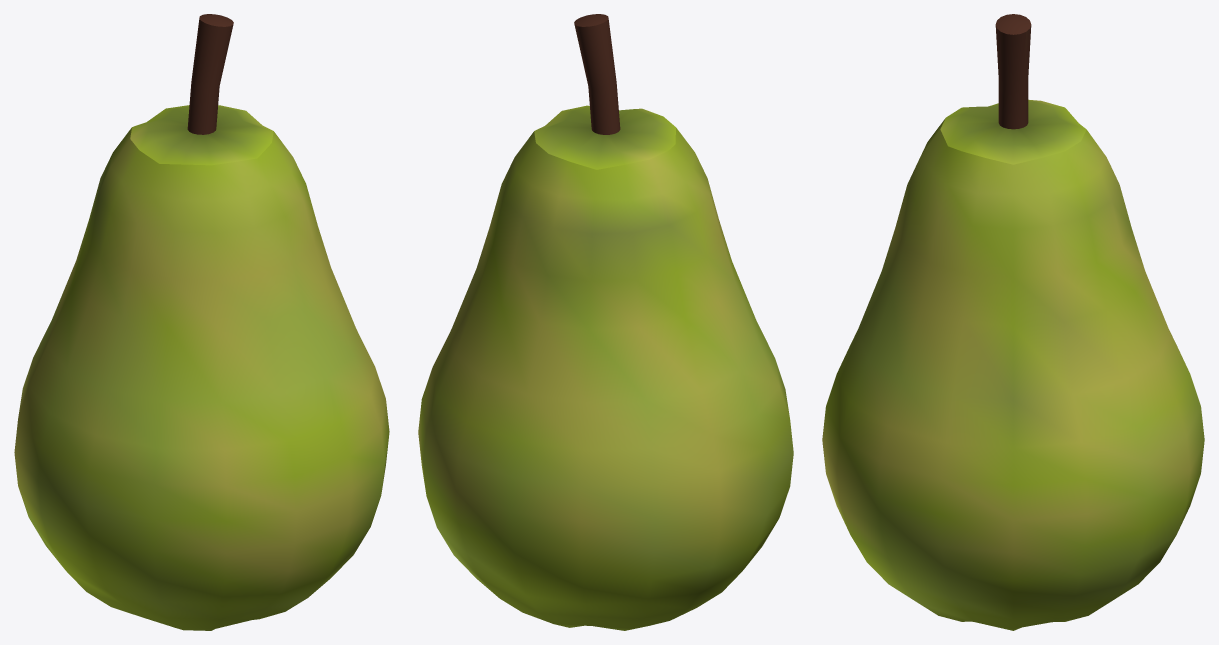
The model's file is Pear1.fbx.
3 views of the same model, side by side, from view 1: azimuth 30°, elevation 25°; view 2: azimuth 150°, elevation 25°; view 3: azimuth 270°, elevation 25° (orthographic).
Visible parts, largest first — view 1: Pear1; view 2: Pear1; view 3: Pear1.
Part boxes in pixels (box(x1,y1,x2,y2)): Pear1: box(14, 14, 389, 630); Pear1: box(418, 14, 793, 630); Pear1: box(822, 14, 1204, 630).
Size of the model in its own units: 200 by 345 by 200.
